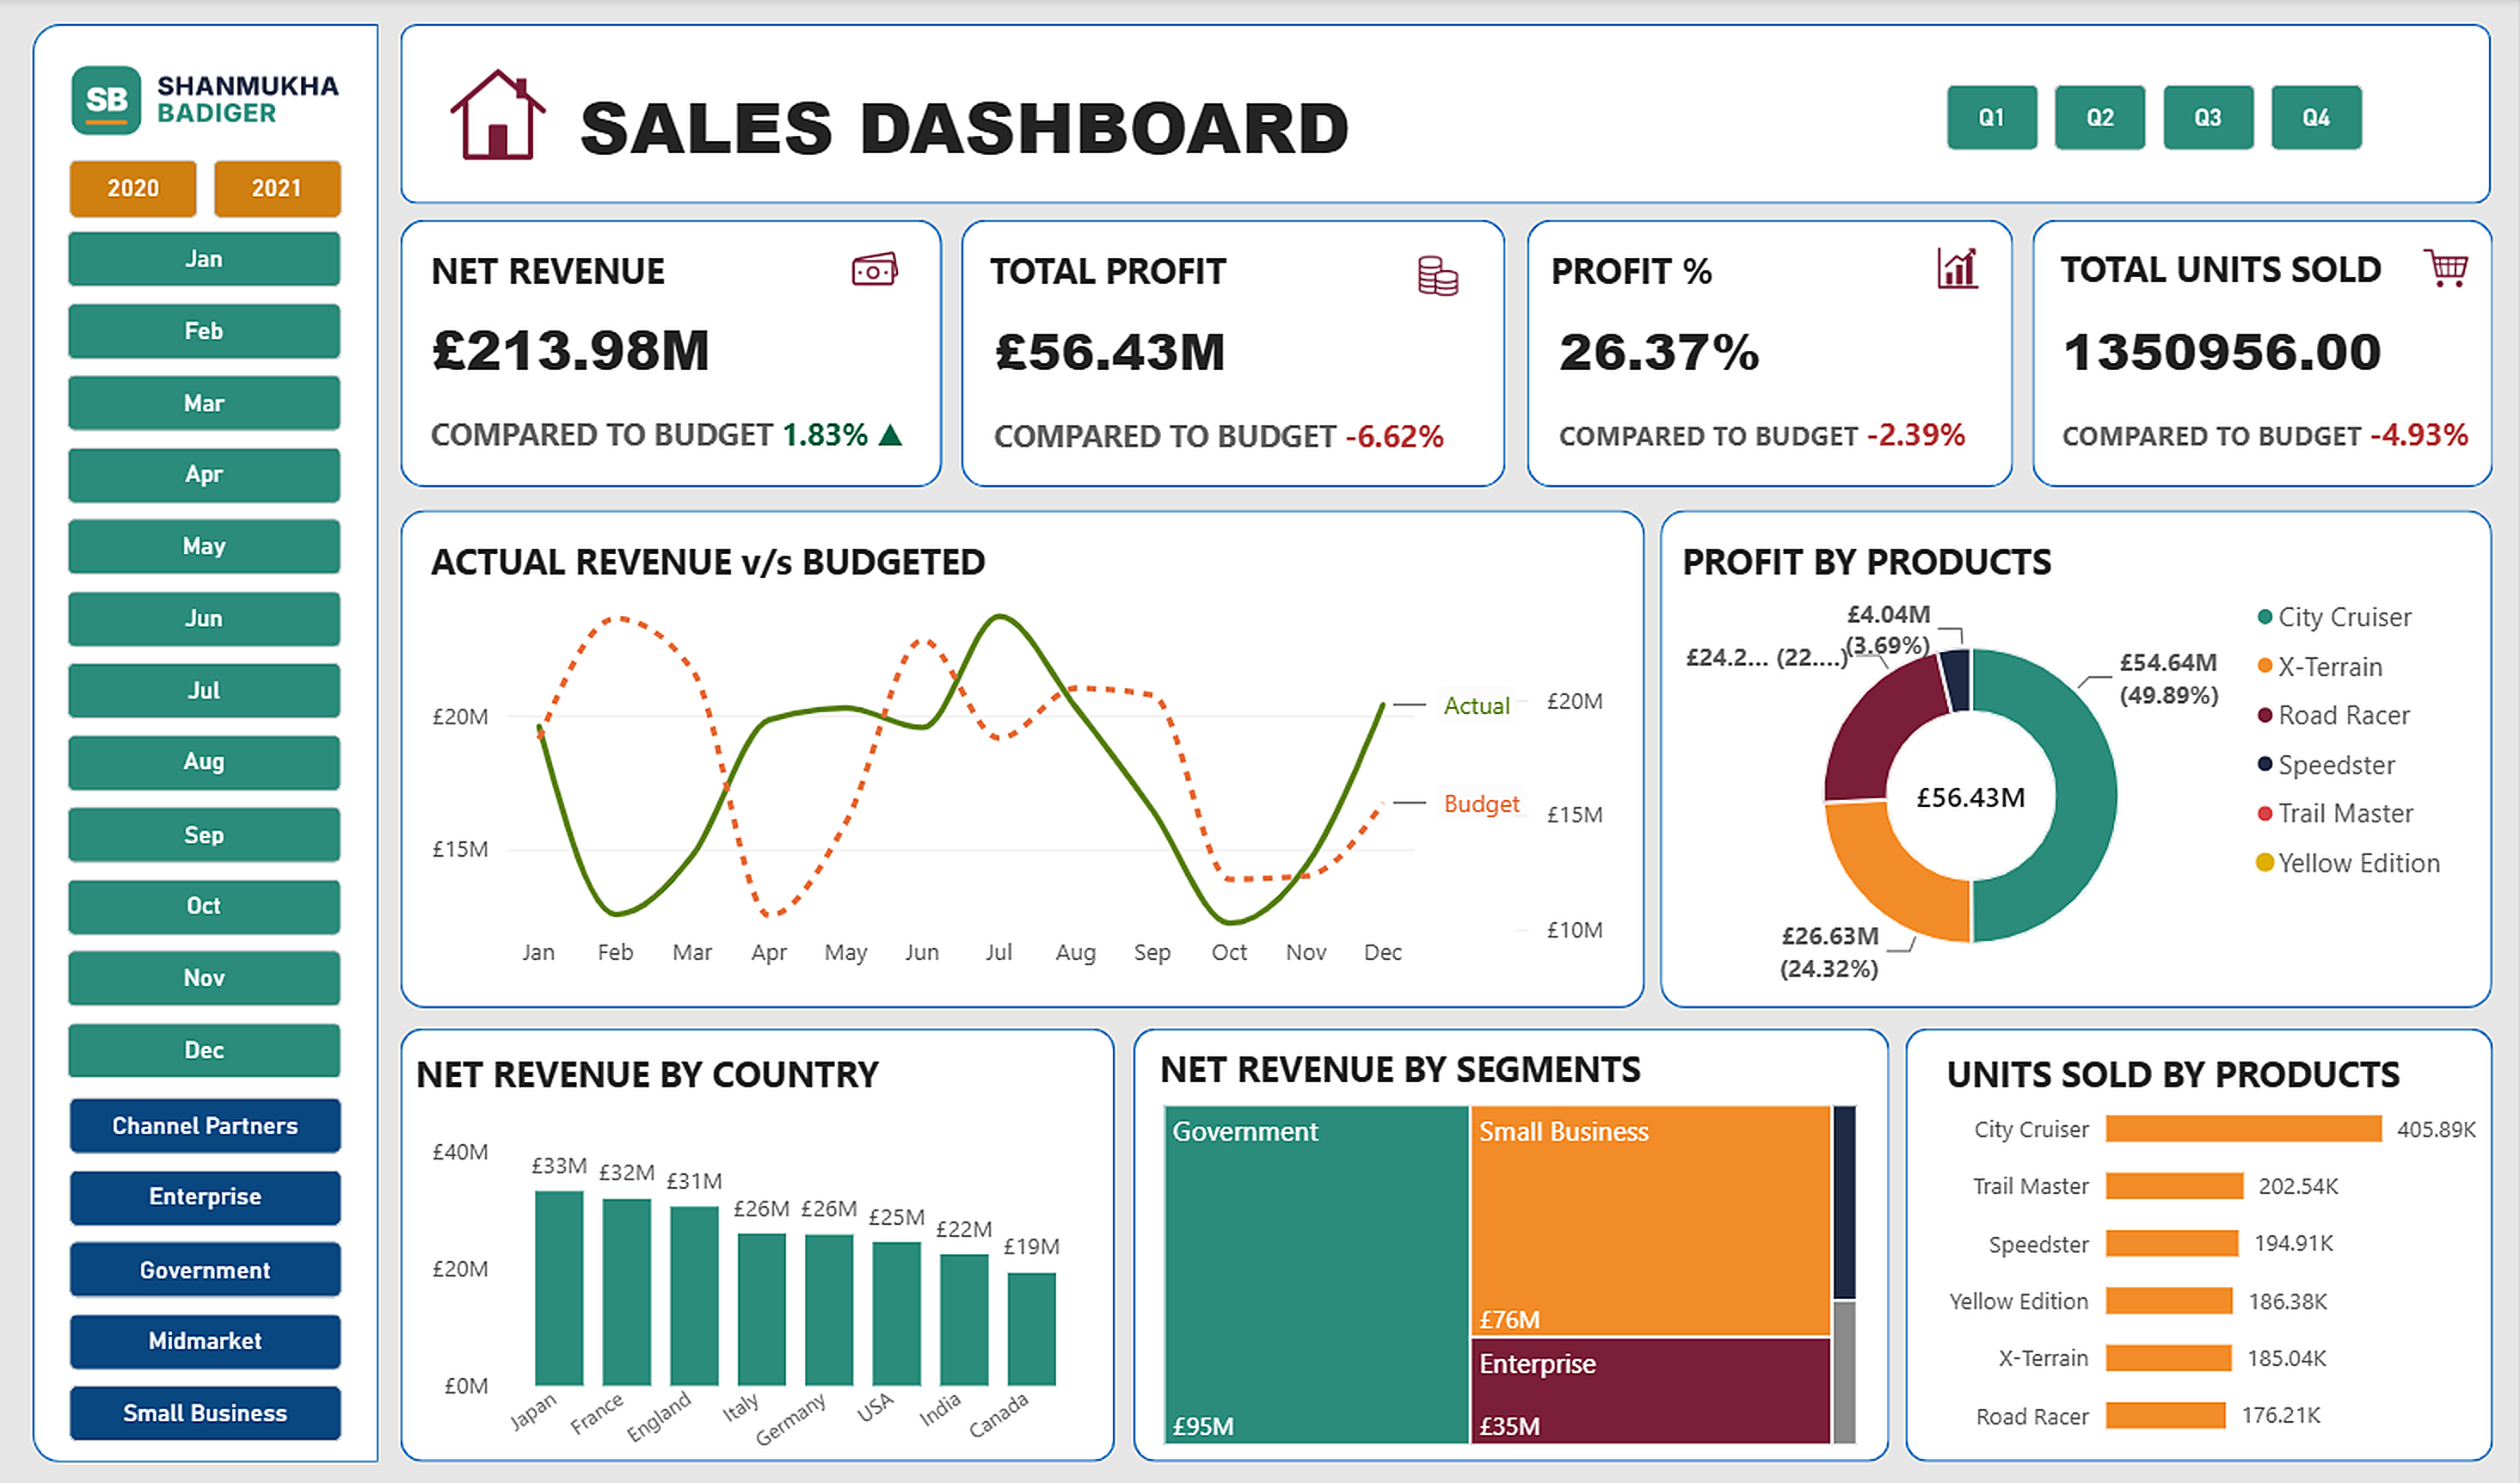

The page's visual inventory and layout, read from the dashboard file:
{"tool":"powerbi","page":{"name":"Page 1","canvas":[1340,789],"ordinal":0},"visuals":[{"type":"shape","box":[221.5,13.4,1104.1,94.9],"z":0},{"type":"shape","box":[221.5,116.9,286.1,141.2],"z":1000},{"type":"shape","box":[518.4,116.9,287.3,141.2],"z":2000},{"type":"shape","box":[1083.4,116.9,243.5,141.2],"z":3000},{"type":"shape","box":[816.8,116.9,256.9,141.2],"z":4000},{"type":"textbox","box":[237.4,130.3,132.7,26.8],"z":6000},{"type":"textbox","box":[533,130.3,132.7,28],"z":7000},{"type":"textbox","box":[829.3,130.3,132.7,28],"z":8000},{"type":"textbox","box":[1098,129,185,28],"z":9000},{"type":"shape","box":[221.5,270.2,657.3,262.9],"z":10000},{"type":"shape","box":[887.4,270.2,439.4,262.9],"z":11000},{"type":"shape","box":[221.5,544.1,377.4,228.9],"z":12000},{"type":"shape","box":[608.6,544.1,399.3,228.9],"z":13000},{"type":"shape","box":[1016.4,544.1,310.4,228.9],"z":14000},{"type":"shape","box":[26.8,13.4,182.6,759.6],"z":15000},{"type":"textbox","box":[898.4,283.6,297,28],"z":16000},{"type":"textbox","box":[228.9,555.1,293.4,28],"z":17000},{"type":"textbox","box":[622,551.4,258.1,28],"z":18000},{"type":"textbox","box":[1038.4,555.1,257.8,27.8],"z":19000},{"type":"cardVisual","fields":{"Data":["METRIC TABLE.ACTUAL REVENUE"]},"box":[221.5,165.6,285.6,78.9],"z":20000},{"type":"lineChart","fields":{"Category":["tbl_Budget.Month"],"Y":["METRIC TABLE.ACTUAL REVENUE"],"Y2":["METRIC TABLE.BUDGET"]},"box":[221.5,298.2,652.5,233.7],"z":21000},{"type":"donutChart","fields":{"Category":["Data.Product_Name"],"Y":["METRIC TABLE.ACTUAL PROFIT"]},"box":[886.2,298.2,439.4,245.9],"z":22000},{"type":"textbox","box":[237.4,283.6,297,28],"z":23000},{"type":"columnChart","fields":{"Category":["Data.Country"],"Y":["METRIC TABLE.ACTUAL REVENUE"]},"box":[221.5,583.1,377.4,205.7],"z":24000},{"type":"cardVisual","fields":{"Data":["METRIC TABLE.ACTUAL PROFIT"]},"box":[518.6,165.6,270.2,79.1],"z":25000},{"type":"cardVisual","fields":{"Data":["METRIC TABLE.PROFIT %"]},"box":[817.1,165.6,248.3,77.9],"z":26000},{"type":"cardVisual","fields":{"Data":["METRIC TABLE.ACTUAL UNITS"]},"box":[1083.4,165.6,250.8,77.9],"z":27000},{"type":"treemap","fields":{"Group":["Data.Segment"],"Values":["METRIC TABLE.ACTUAL REVENUE"]},"box":[608.6,569.7,398.1,209.4],"z":28000},{"type":"barChart","fields":{"Category":["Data.Product_Name"],"Y":["METRIC TABLE.ACTUAL UNITS"]},"box":[1016.4,555.1,317.7,228.9],"z":29000},{"type":"advancedSlicerVisual","fields":{"Values":["Data.Year"]},"box":[46.5,85.7,145.6,31.8],"z":30000},{"type":"advancedSlicerVisual","fields":{"Values":["tbl_Budget.Month"]},"box":[45.3,122.4,145.6,447.9],"z":31000},{"type":"advancedSlicerVisual","fields":{"Values":["Data.Segment"]},"box":[46.5,580,144.4,186],"z":32000},{"type":"advancedSlicerVisual","fields":{"Values":["tbl_Budget.Quarter"]},"box":[1038.4,45,221.5,35.3],"z":33000},{"type":"image","box":[242.3,25.7,62.1,70.6],"z":34000},{"type":"image","box":[1025.3,127.8,37.7,28],"z":35000},{"type":"image","box":[750.9,130.3,37.7,28],"z":36000},{"type":"image","box":[452.8,127.8,37.7,28],"z":37000},{"type":"image","box":[1283,127.8,37.7,28],"z":38000},{"type":"textbox","box":[315.7,40.4,438.2,56],"z":38001},{"type":"image","box":[46.6,28.4,143.1,51.1],"z":38002}]}

Visuals, with their boxes in screenshot pixels (x1, y1, x2, y2), scaled from the page's 1340x789 canvas onto the 2520x1483 screenshot:
shape: (x1=416, y1=25, x2=2493, y2=204)
shape: (x1=416, y1=219, x2=955, y2=485)
shape: (x1=975, y1=219, x2=1515, y2=485)
shape: (x1=2038, y1=219, x2=2495, y2=485)
shape: (x1=1536, y1=219, x2=2019, y2=485)
textbox: (x1=446, y1=245, x2=696, y2=295)
textbox: (x1=1002, y1=245, x2=1252, y2=298)
textbox: (x1=1559, y1=245, x2=1809, y2=298)
textbox: (x1=2065, y1=243, x2=2412, y2=295)
shape: (x1=416, y1=508, x2=1653, y2=1002)
shape: (x1=1669, y1=508, x2=2495, y2=1002)
shape: (x1=416, y1=1023, x2=1127, y2=1453)
shape: (x1=1145, y1=1023, x2=1896, y2=1453)
shape: (x1=1911, y1=1023, x2=2495, y2=1453)
shape: (x1=51, y1=25, x2=394, y2=1453)
textbox: (x1=1689, y1=533, x2=2248, y2=586)
textbox: (x1=431, y1=1043, x2=982, y2=1096)
textbox: (x1=1170, y1=1037, x2=1655, y2=1089)
textbox: (x1=1953, y1=1043, x2=2437, y2=1096)
cardVisual - METRIC TABLE.ACTUAL REVENUE: (x1=416, y1=311, x2=954, y2=459)
lineChart - tbl_Budget.Month x METRIC TABLE.ACTUAL REVENUE: (x1=416, y1=561, x2=1644, y2=1000)
donutChart - Data.Product_Name x METRIC TABLE.ACTUAL PROFIT: (x1=1667, y1=561, x2=2493, y2=1023)
textbox: (x1=446, y1=533, x2=1005, y2=586)
columnChart - Data.Country x METRIC TABLE.ACTUAL REVENUE: (x1=416, y1=1096, x2=1127, y2=1482)
cardVisual - METRIC TABLE.ACTUAL PROFIT: (x1=975, y1=311, x2=1484, y2=460)
cardVisual - METRIC TABLE.PROFIT %: (x1=1537, y1=311, x2=2004, y2=458)
cardVisual - METRIC TABLE.ACTUAL UNITS: (x1=2038, y1=311, x2=2509, y2=458)
treemap - Data.Segment x METRIC TABLE.ACTUAL REVENUE: (x1=1145, y1=1071, x2=1893, y2=1464)
barChart - Data.Product_Name x METRIC TABLE.ACTUAL UNITS: (x1=1911, y1=1043, x2=2509, y2=1474)
advancedSlicerVisual - Data.Year: (x1=88, y1=161, x2=361, y2=221)
advancedSlicerVisual - tbl_Budget.Month: (x1=85, y1=230, x2=359, y2=1072)
advancedSlicerVisual - Data.Segment: (x1=88, y1=1090, x2=359, y2=1440)
advancedSlicerVisual - tbl_Budget.Quarter: (x1=1953, y1=84, x2=2369, y2=151)
image: (x1=456, y1=48, x2=573, y2=181)
image: (x1=1928, y1=240, x2=1999, y2=292)
image: (x1=1412, y1=245, x2=1483, y2=298)
image: (x1=851, y1=240, x2=923, y2=292)
image: (x1=2412, y1=240, x2=2484, y2=292)
textbox: (x1=593, y1=76, x2=1417, y2=182)
image: (x1=88, y1=53, x2=357, y2=150)
